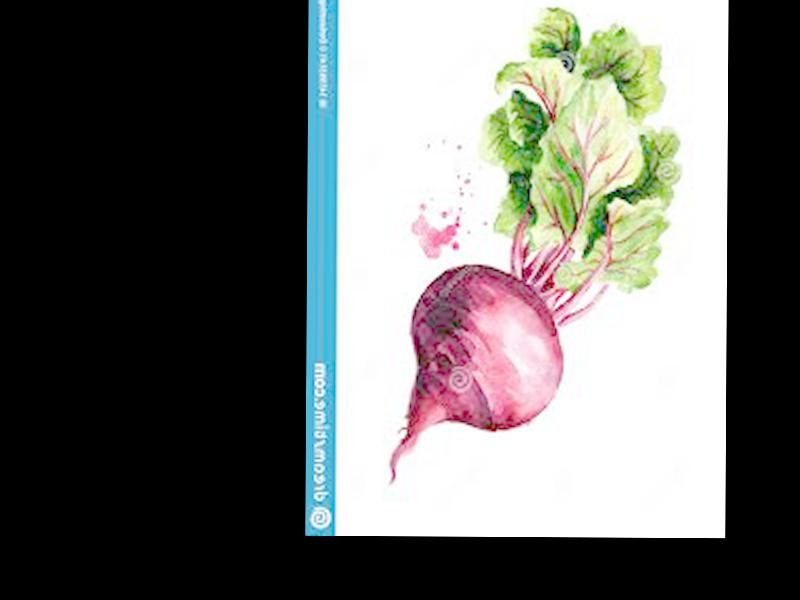Beet: (388, 4, 683, 483)
